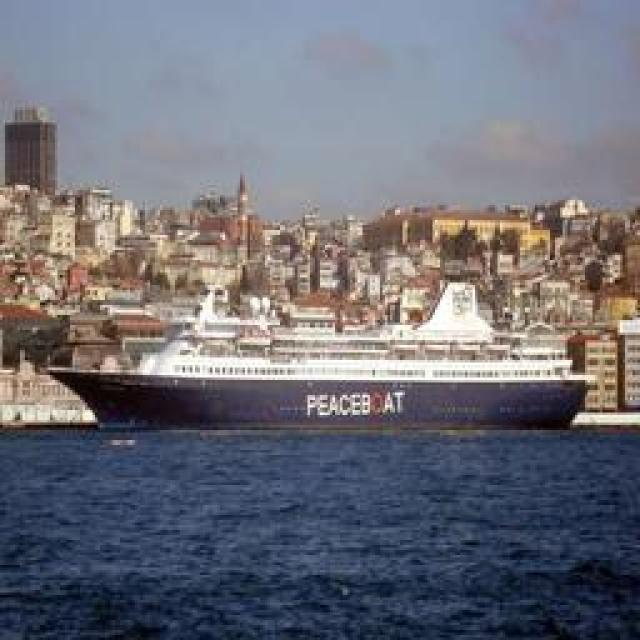Ship: (63, 295, 591, 430)
